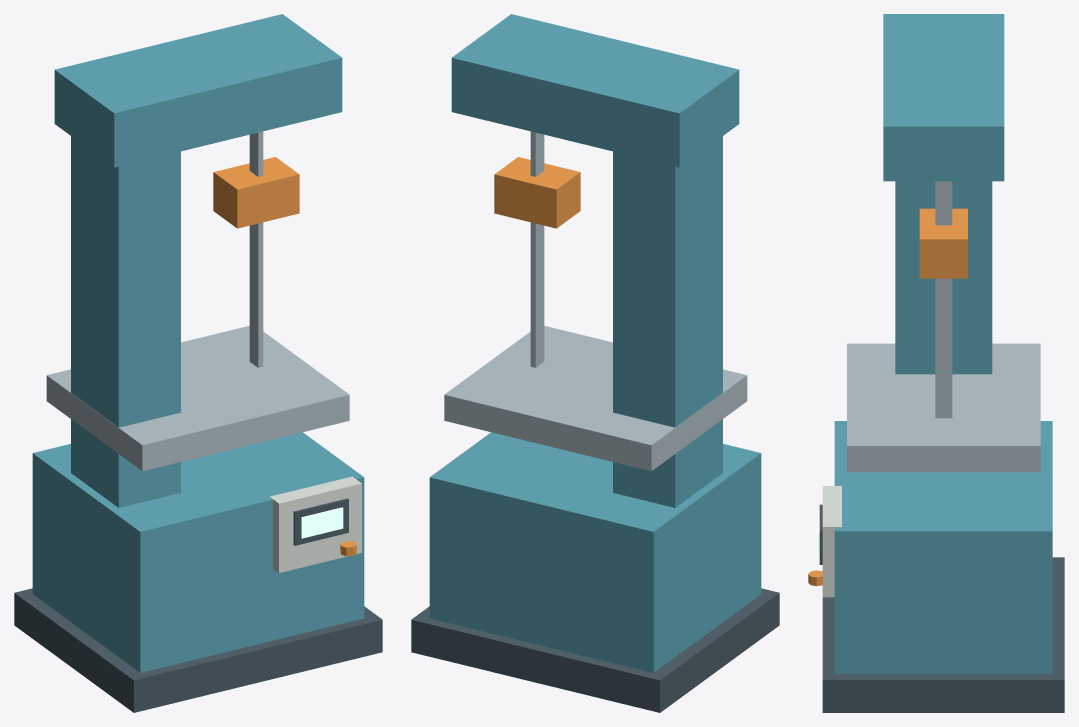
Rendered from guarded-band-saw.glb.
The picture shows the model from 3 angles, left to right: view 1: azimuth 30°, elevation 25°; view 2: azimuth 150°, elevation 25°; view 3: azimuth 270°, elevation 25°; orthographic projection.
Parts seen in each view (by area): view 1: blue, steel, dark, orange, cream, light; view 2: blue, steel, dark, orange; view 3: blue, steel, dark, orange, cream.
Part boxes in pixels (x1=…): blue: x1=32, y1=14, x2=364, y2=672; steel: x1=46, y1=131, x2=349, y2=471; dark: x1=14, y1=498, x2=382, y2=712; orange: x1=213, y1=157, x2=356, y2=556; cream: x1=270, y1=476, x2=361, y2=572; light: x1=301, y1=507, x2=343, y2=538; blue: x1=429, y1=14, x2=761, y2=672; steel: x1=444, y1=131, x2=747, y2=471; dark: x1=411, y1=588, x2=779, y2=712; orange: x1=494, y1=157, x2=580, y2=228; blue: x1=834, y1=14, x2=1052, y2=673; steel: x1=847, y1=181, x2=1040, y2=472; dark: x1=819, y1=504, x2=1064, y2=712; orange: x1=808, y1=208, x2=967, y2=586; cream: x1=822, y1=486, x2=841, y2=597.
Bounding box in the file's own units: 1.2 × 2.65 × 1.06.
